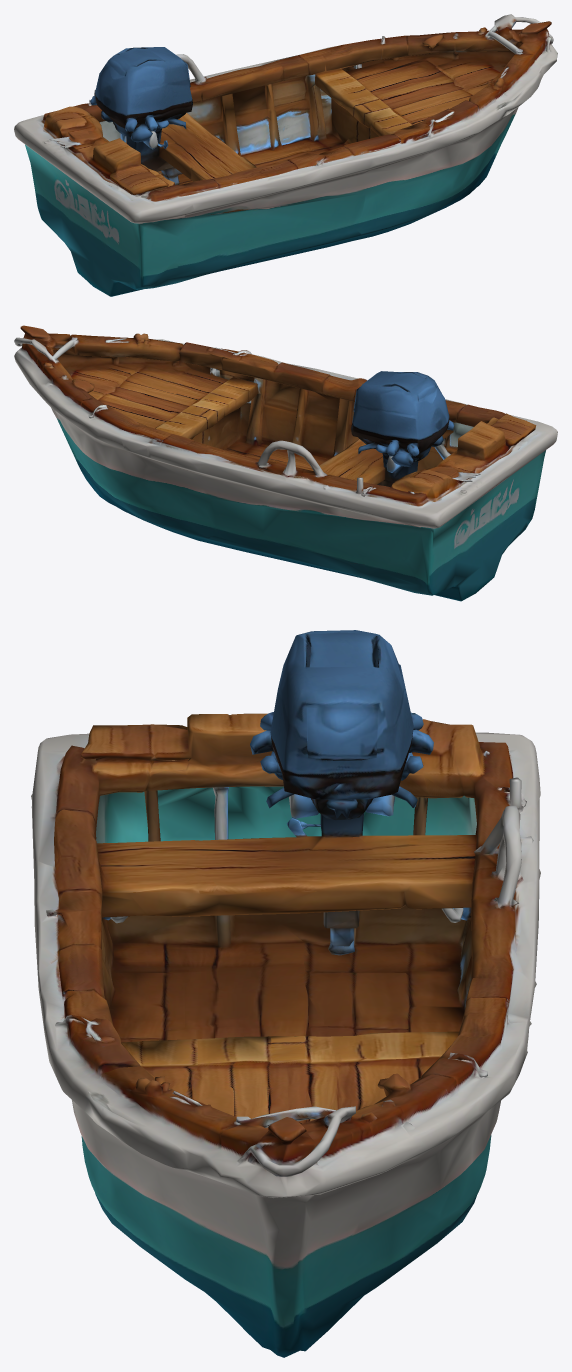
Rendered from env-motorboat.glb.
3 views of the same model, one above another, from view 1: azimuth 30°, elevation 25°; view 2: azimuth 150°, elevation 25°; view 3: azimuth 270°, elevation 25° (orthographic). The views are drawn at different scales.
Visible parts, largest first — view 1: tripo_node_7a956144-1b49-47f6-8e1d-9162d7a8a881; view 2: tripo_node_7a956144-1b49-47f6-8e1d-9162d7a8a881; view 3: tripo_node_7a956144-1b49-47f6-8e1d-9162d7a8a881.
Part boxes in pixels (<box>): tripo_node_7a956144-1b49-47f6-8e1d-9162d7a8a881: <box>14,14,557,296</box>; tripo_node_7a956144-1b49-47f6-8e1d-9162d7a8a881: <box>14,325,557,601</box>; tripo_node_7a956144-1b49-47f6-8e1d-9162d7a8a881: <box>31,630,540,1357</box>.
Size of the model in its own units: 0.9991 by 0.4171 by 0.4595.
Materials: 1 (1 with a texture image).
